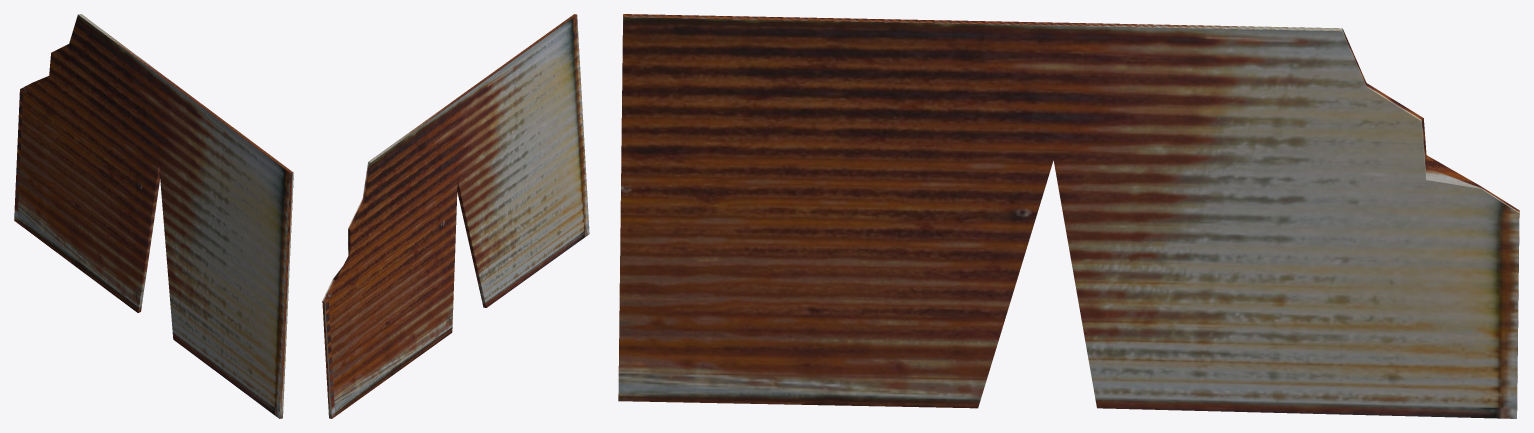
Rendered from house part 4.fbx.
The picture shows the model from 3 angles, left to right: view 1: azimuth 30°, elevation 25°; view 2: azimuth 150°, elevation 25°; view 3: azimuth 270°, elevation 25°; orthographic projection. The views are drawn at different scales.
Parts seen in each view (by area): view 1: pasted__pasted__pasted__pCube2; view 2: pasted__pasted__pasted__pCube2; view 3: pasted__pasted__pasted__pCube2.
Boxes of the visible parts, x1,y1,x2,y2 form: pasted__pasted__pasted__pCube2: (14,14,293,418); pasted__pasted__pasted__pCube2: (322,14,589,418); pasted__pasted__pasted__pCube2: (618,14,1519,418).
Bounding box in the file's own units: 0.066 × 0.6539 × 1.32.
Materials: 1 (1 with a texture image).
